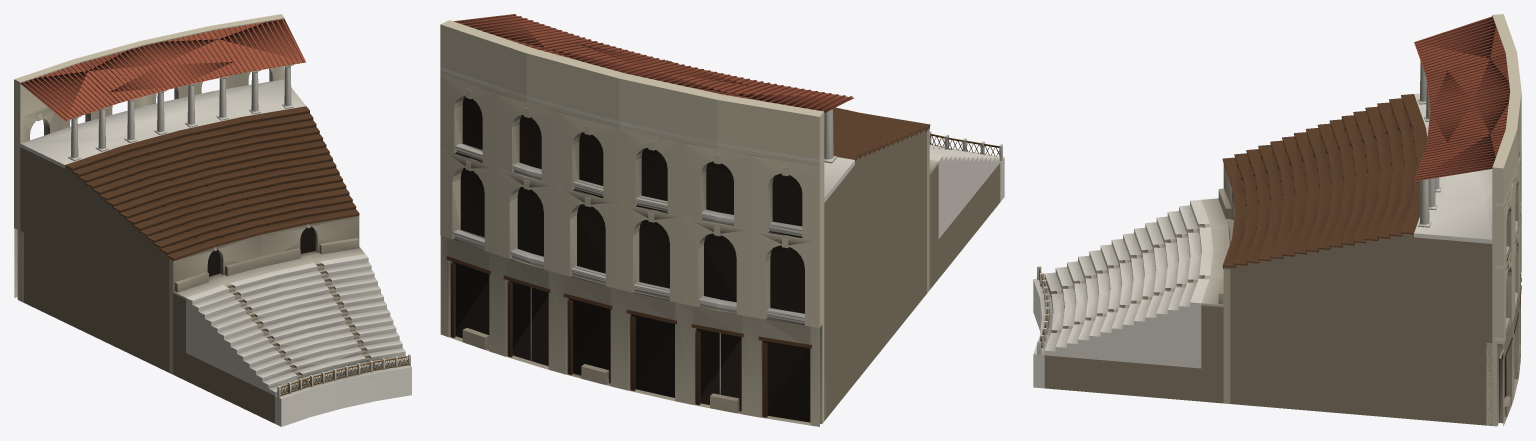
Rendered from rome_cavea_c.glb.
The picture shows the model from 3 angles, left to right: view 1: azimuth 30°, elevation 25°; view 2: azimuth 150°, elevation 25°; view 3: azimuth 270°, elevation 25°; orthographic projection. The views are drawn at different scales.
Parts seen in each view (by area): view 1: rome_cavea_c; view 2: rome_cavea_c; view 3: rome_cavea_c.
Part boxes in pixels (x1,y1,x2,y2): rome_cavea_c: (14,14,411,426); rome_cavea_c: (440,14,1004,426); rome_cavea_c: (1033,14,1521,426).
Size of the model in its own units: 31.99 by 25 by 42.77.
